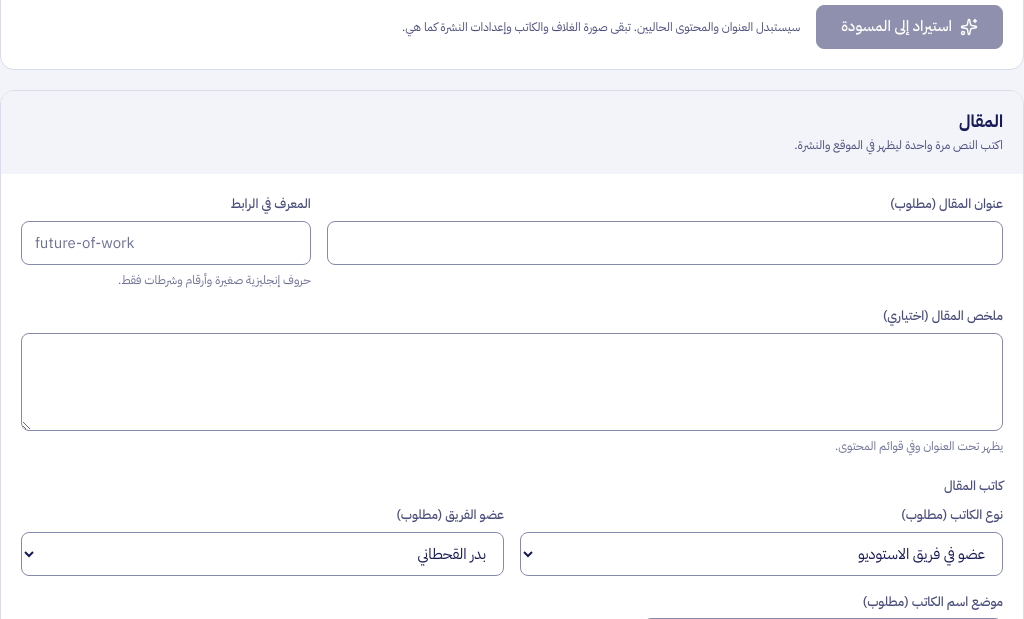
it: ArticleEditorView › shows a recoverable error next to an empty required content editor
(page scrolled)
Click the field labelled "عنوان المقال": (665, 243) [327, 221, 1003, 265]
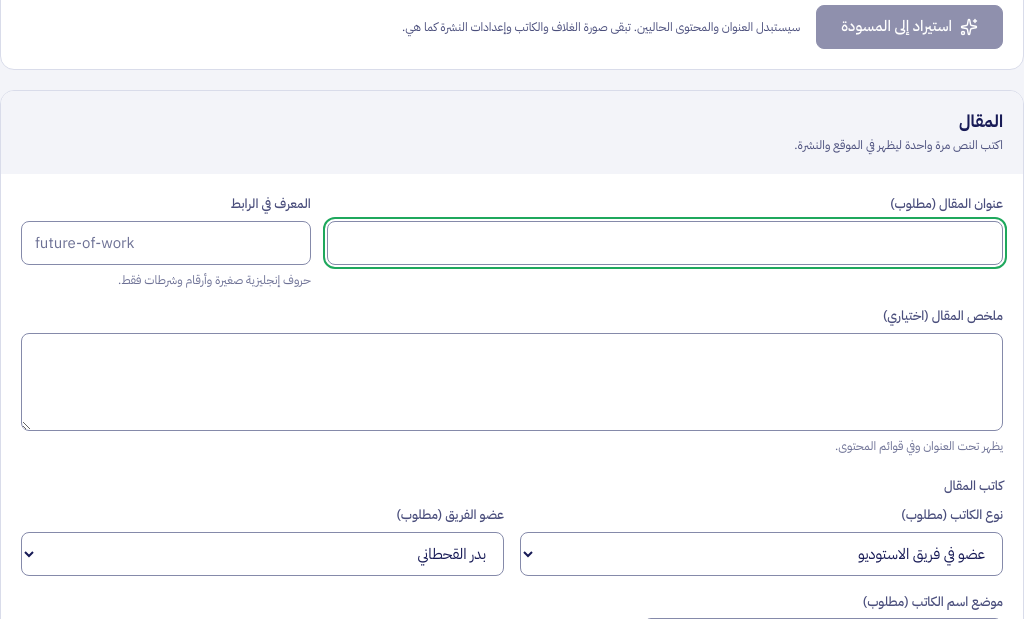
Type keys "مقال بلا محتوى"
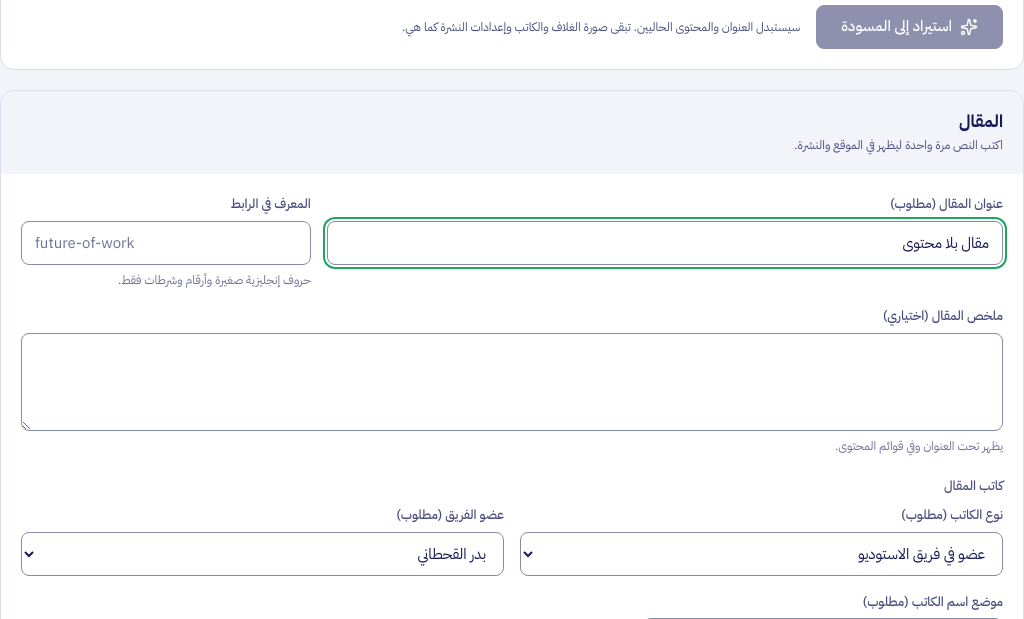
Click the field labelled "المعرف في الرابط حروف إنجليزية صغيرة وأرقام وشرطات فقط.": (166, 243) [21, 221, 311, 265]
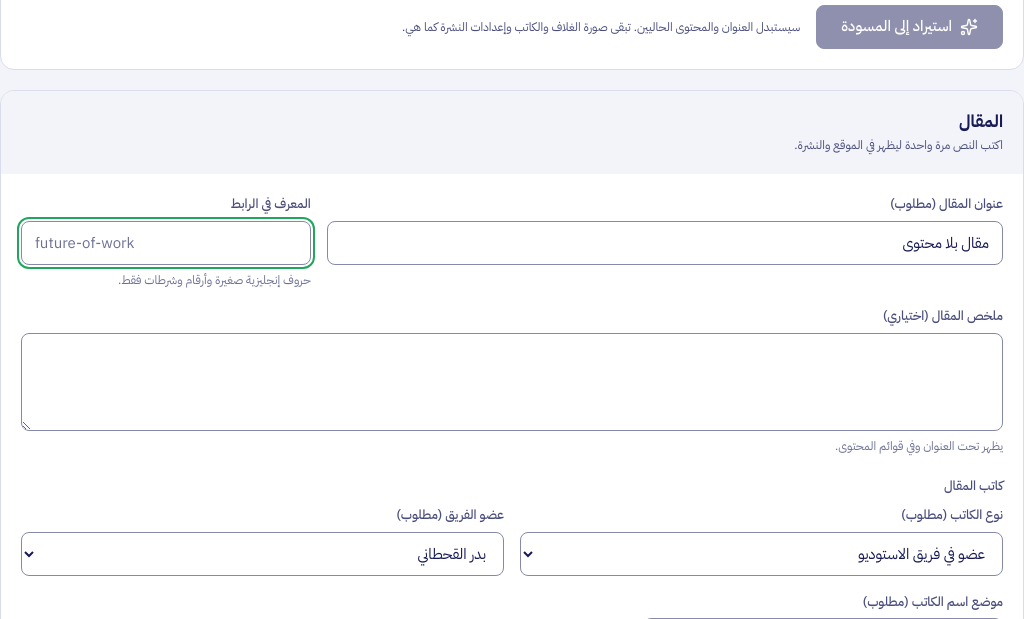
Type keys "empty-content"
(page scrolled)
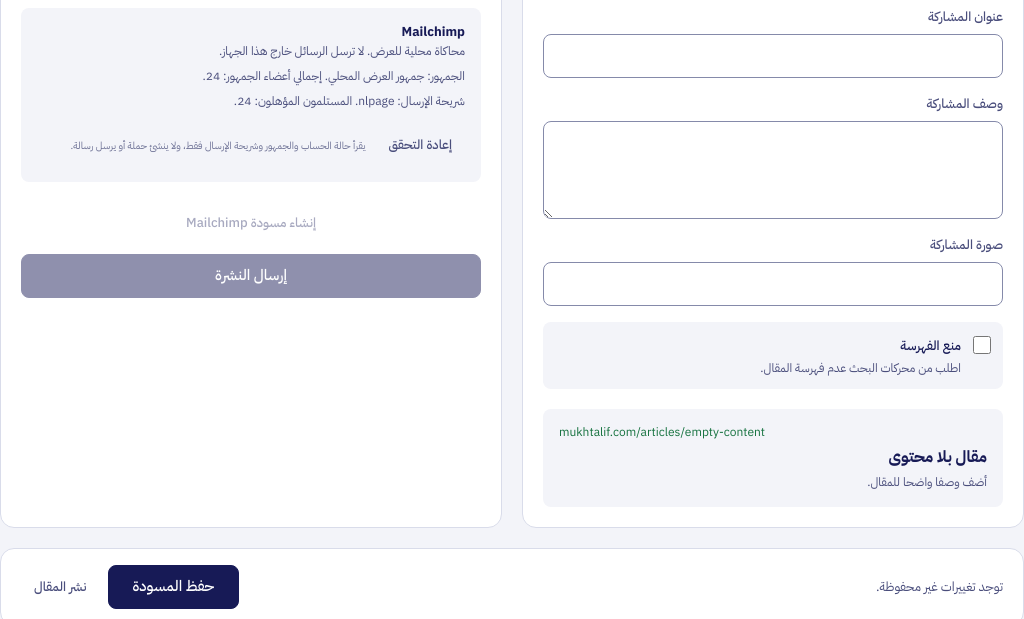
Click the button "حفظ المسودة": (173, 587) [108, 565, 239, 609]
(page scrolled)
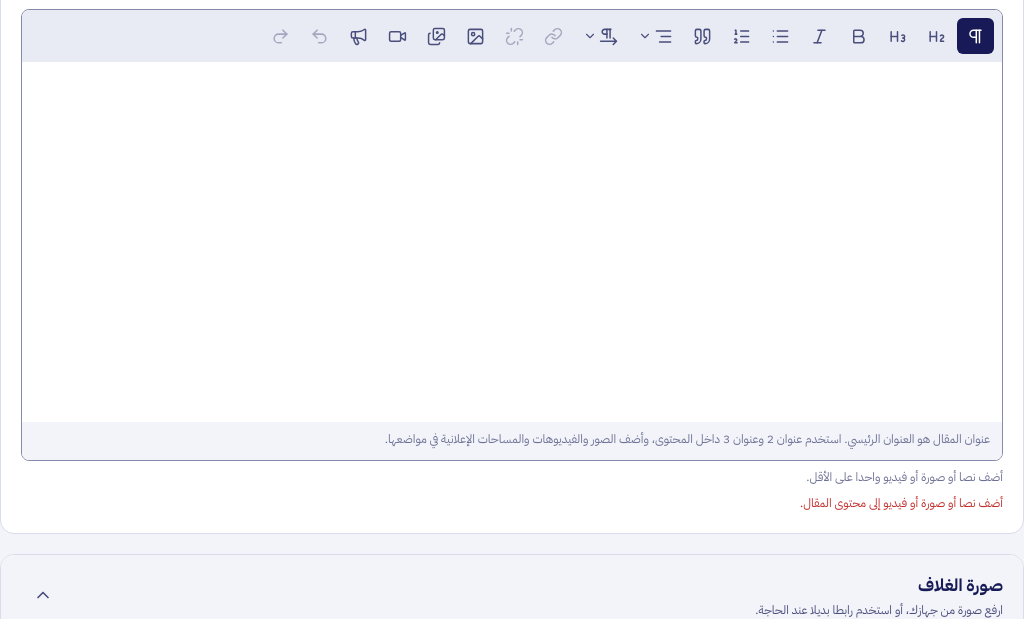
Now the text "أضف نصا أو صورة أو فيديو إلى محتوى المقال." is shown, box [800, 494, 1003, 512]
